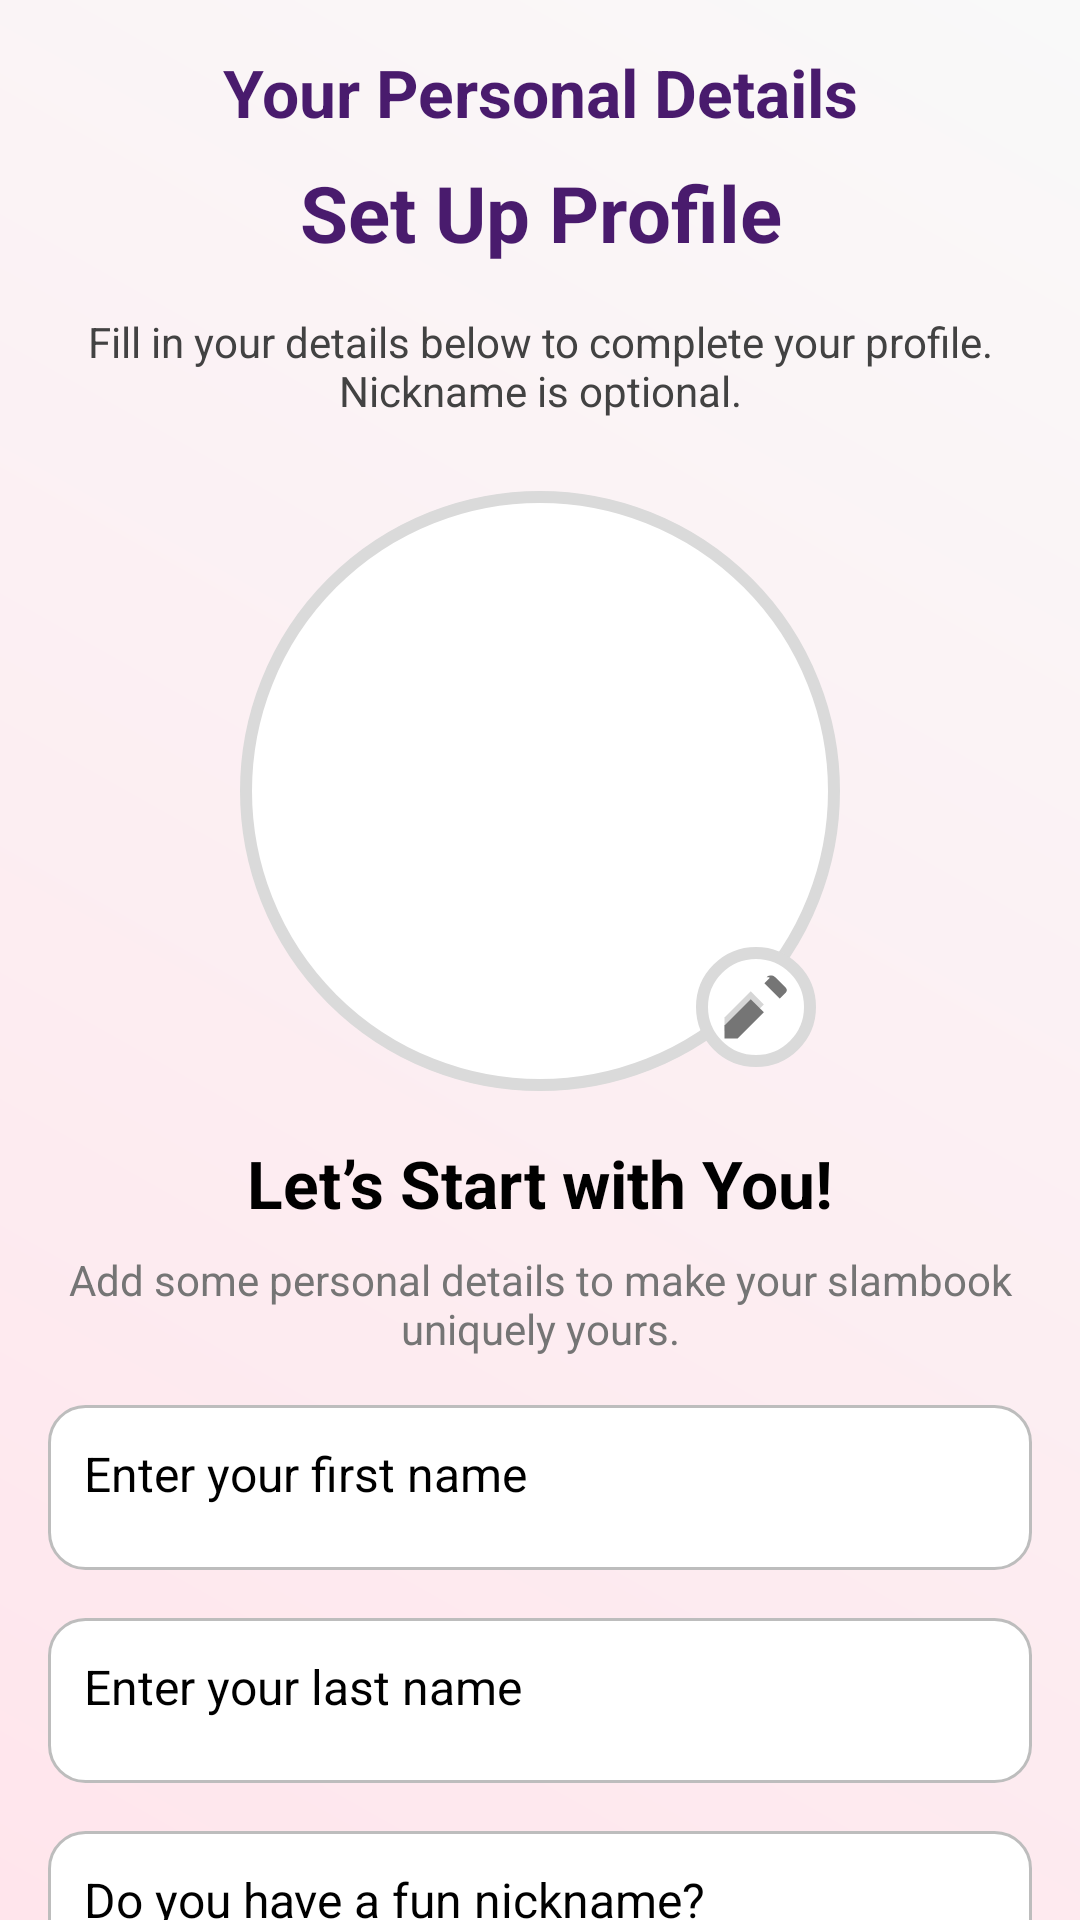

Screen size 1080×1920. Icon name, then its box in pixels as (x1, y1, x2, y2):
Change Avatar: (696, 947, 816, 1067)
